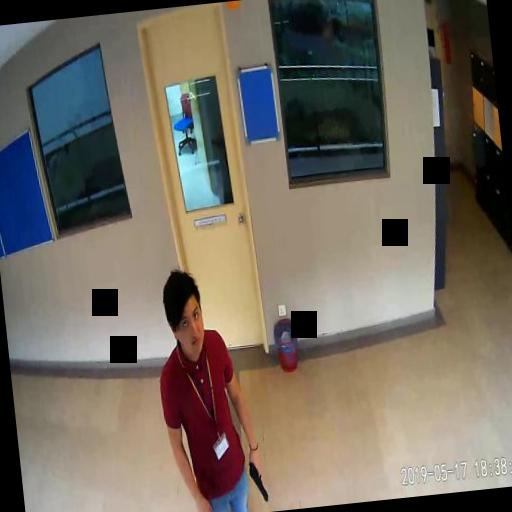Handgun: (246, 448, 266, 502)
